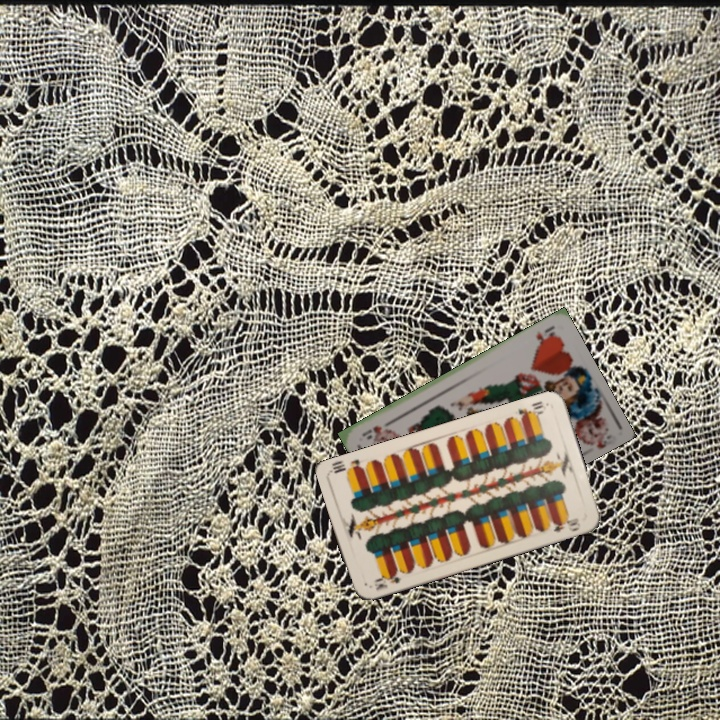E10: (370, 567, 405, 593), (514, 397, 546, 422)
HO: (532, 321, 558, 346)
